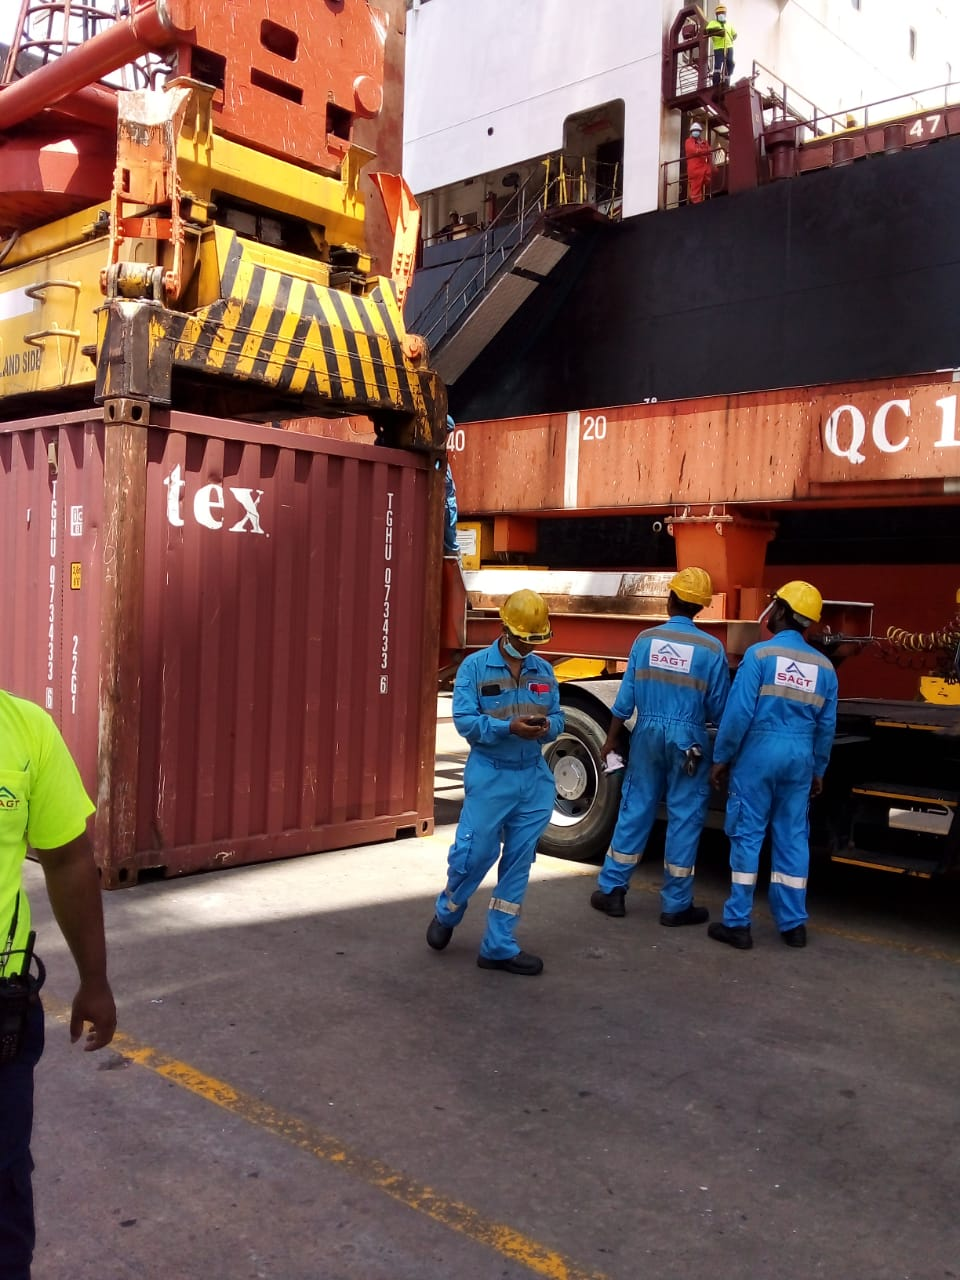bulged: (110, 802, 192, 861), (182, 459, 240, 493)
